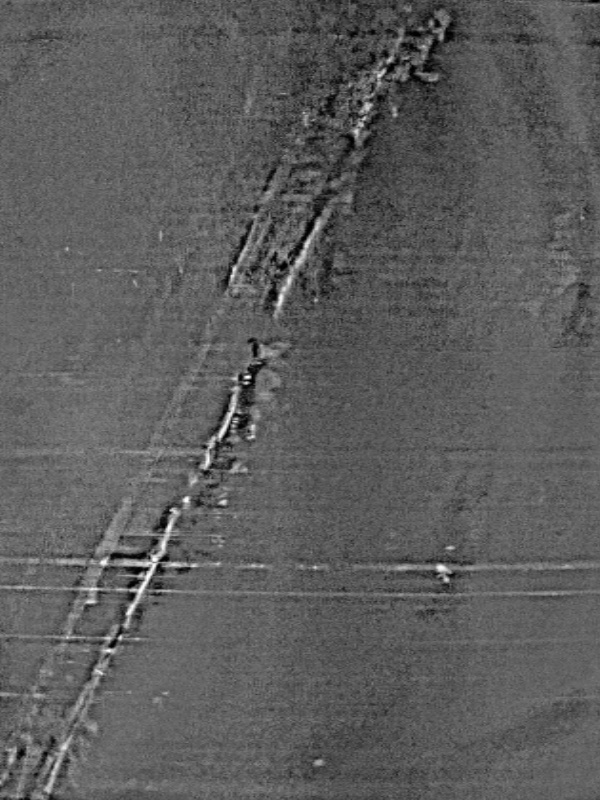splice_vulcanized: (1, 6, 457, 800)
